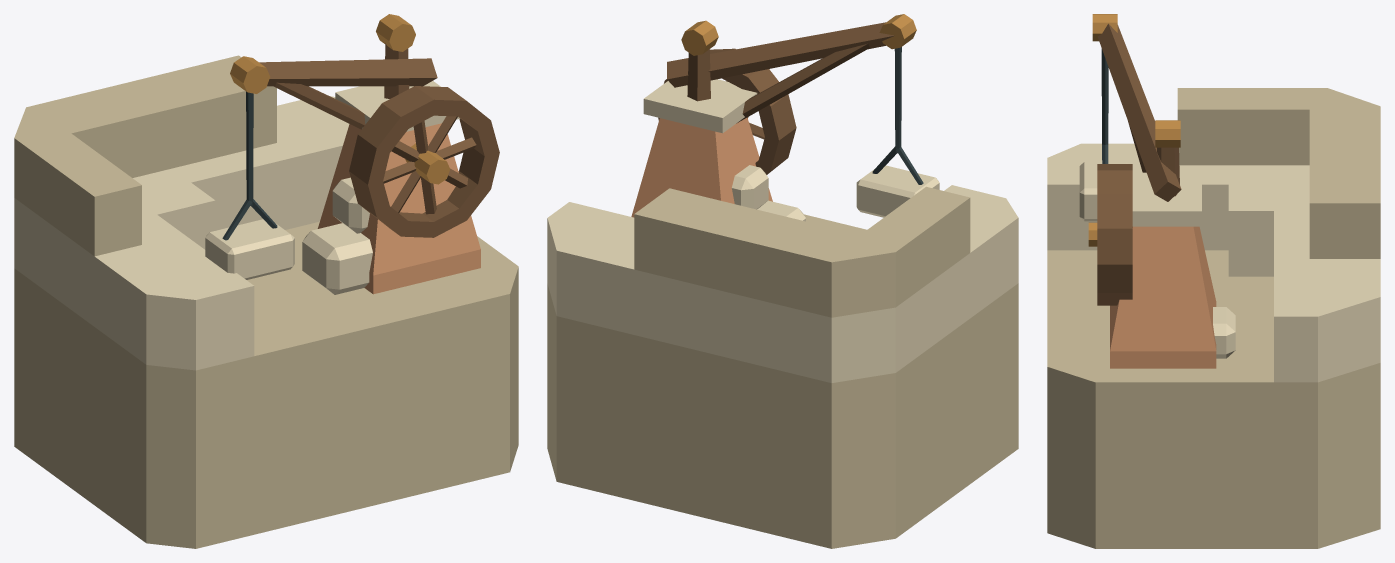
The model's file is ns-quarry.glb.
3 renders of one model, left to right at view 1: azimuth 30°, elevation 25°; view 2: azimuth 150°, elevation 25°; view 3: azimuth 270°, elevation 25°, orthographic. The views are drawn at different scales.
Visible parts, largest first — view 1: Stone bench; view 2: Stone bench; view 3: Stone bench.
Part boxes in pixels (x1,y1,x2,y2): Stone bench: [14, 14, 518, 548]; Stone bench: [547, 14, 1018, 548]; Stone bench: [1047, 14, 1380, 548].
Size of the model in its own units: 0.847 by 0.946 by 0.69.
